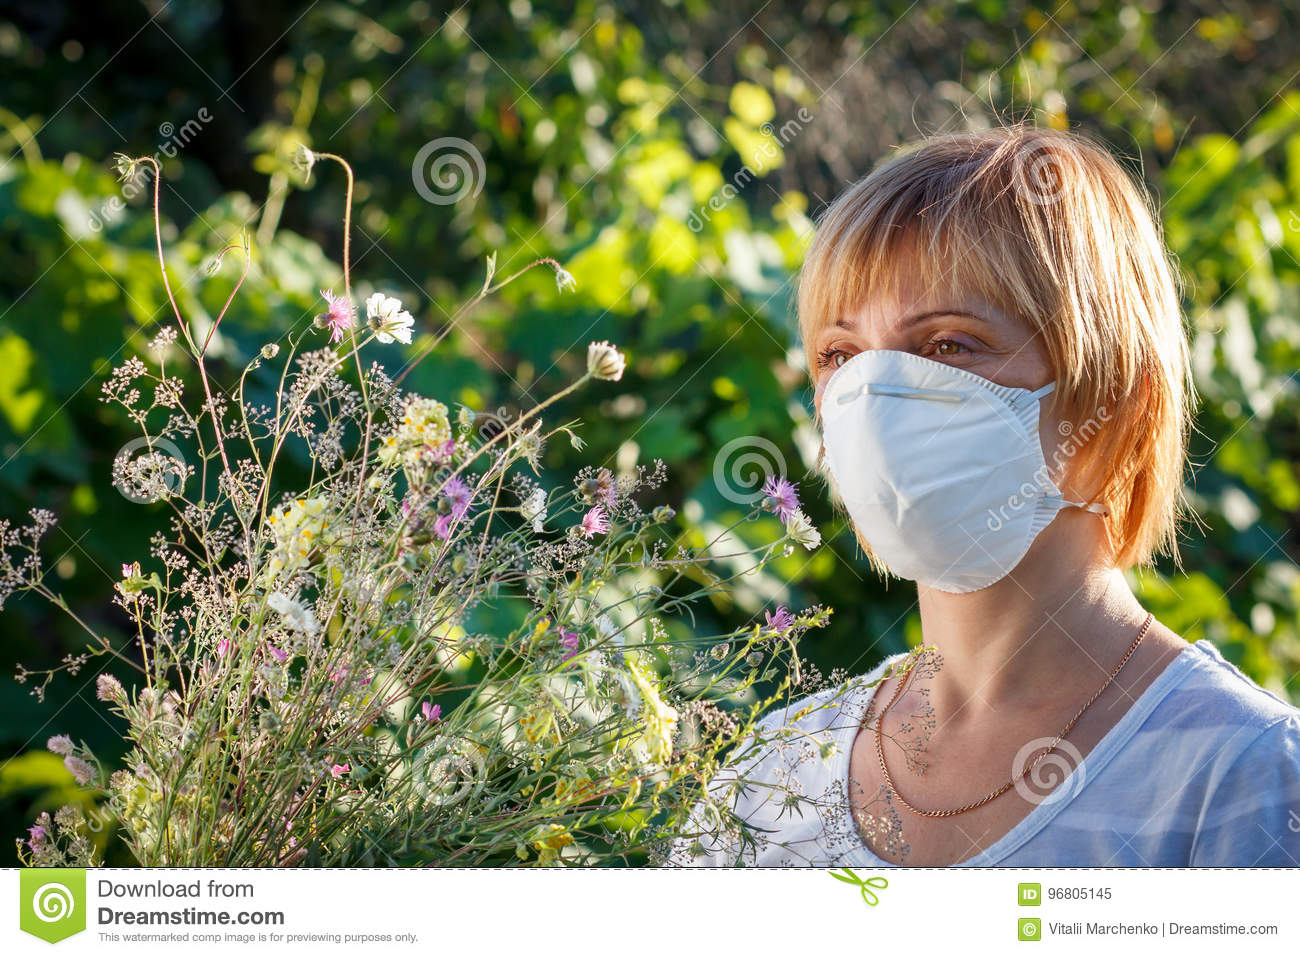mask: (820, 350, 1058, 592)
